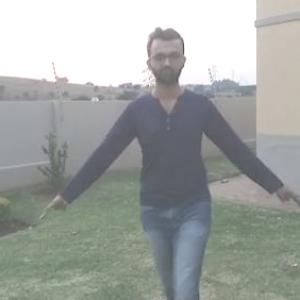land: (64, 36, 278, 299)
